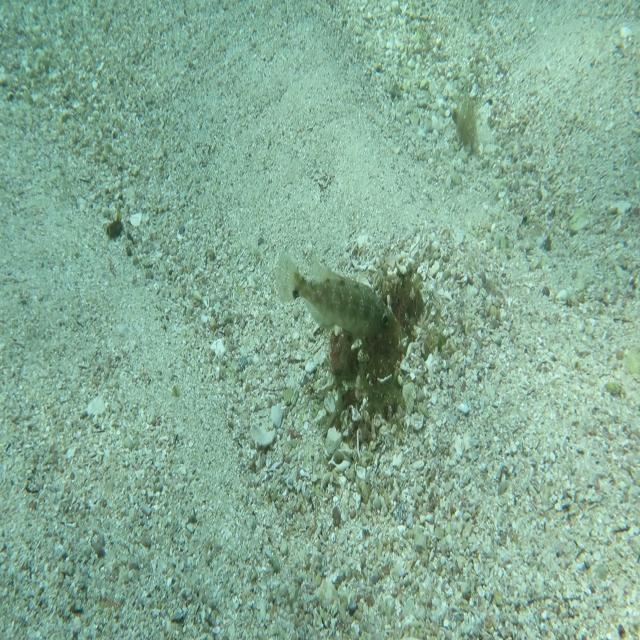NIP_CORE: (274, 240, 402, 348)
nest: (320, 259, 432, 443)
vegetation: (452, 90, 482, 161), (105, 211, 125, 245)
